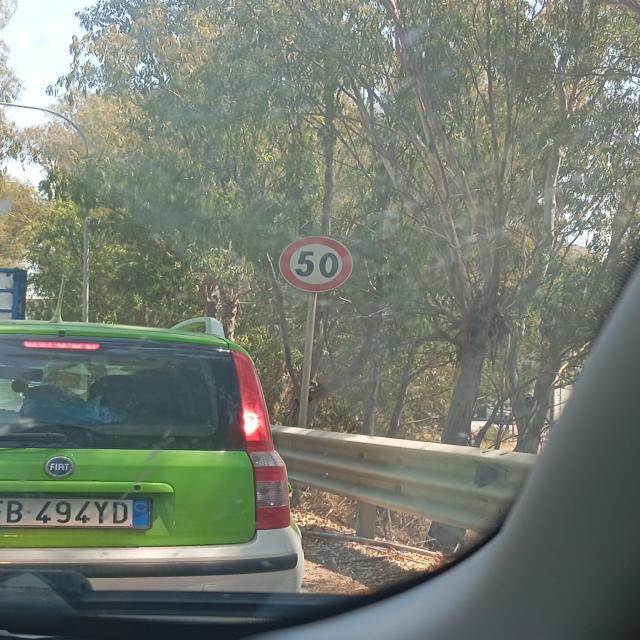forb_speed_over_50: (278, 235, 354, 293)
